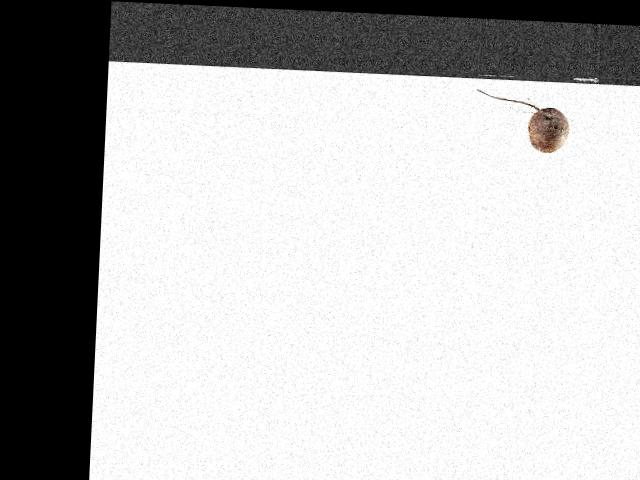beet: (473, 88, 570, 153)
